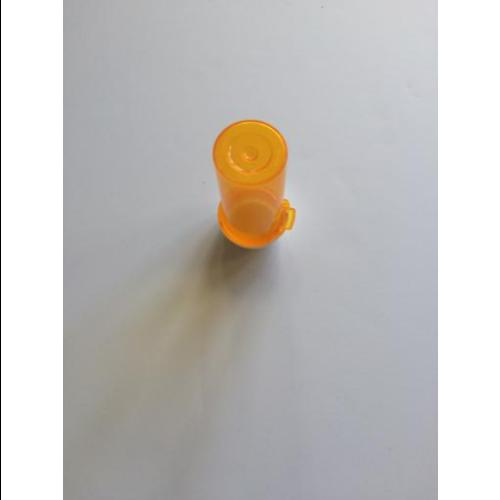plastic: (214, 121, 287, 249)
